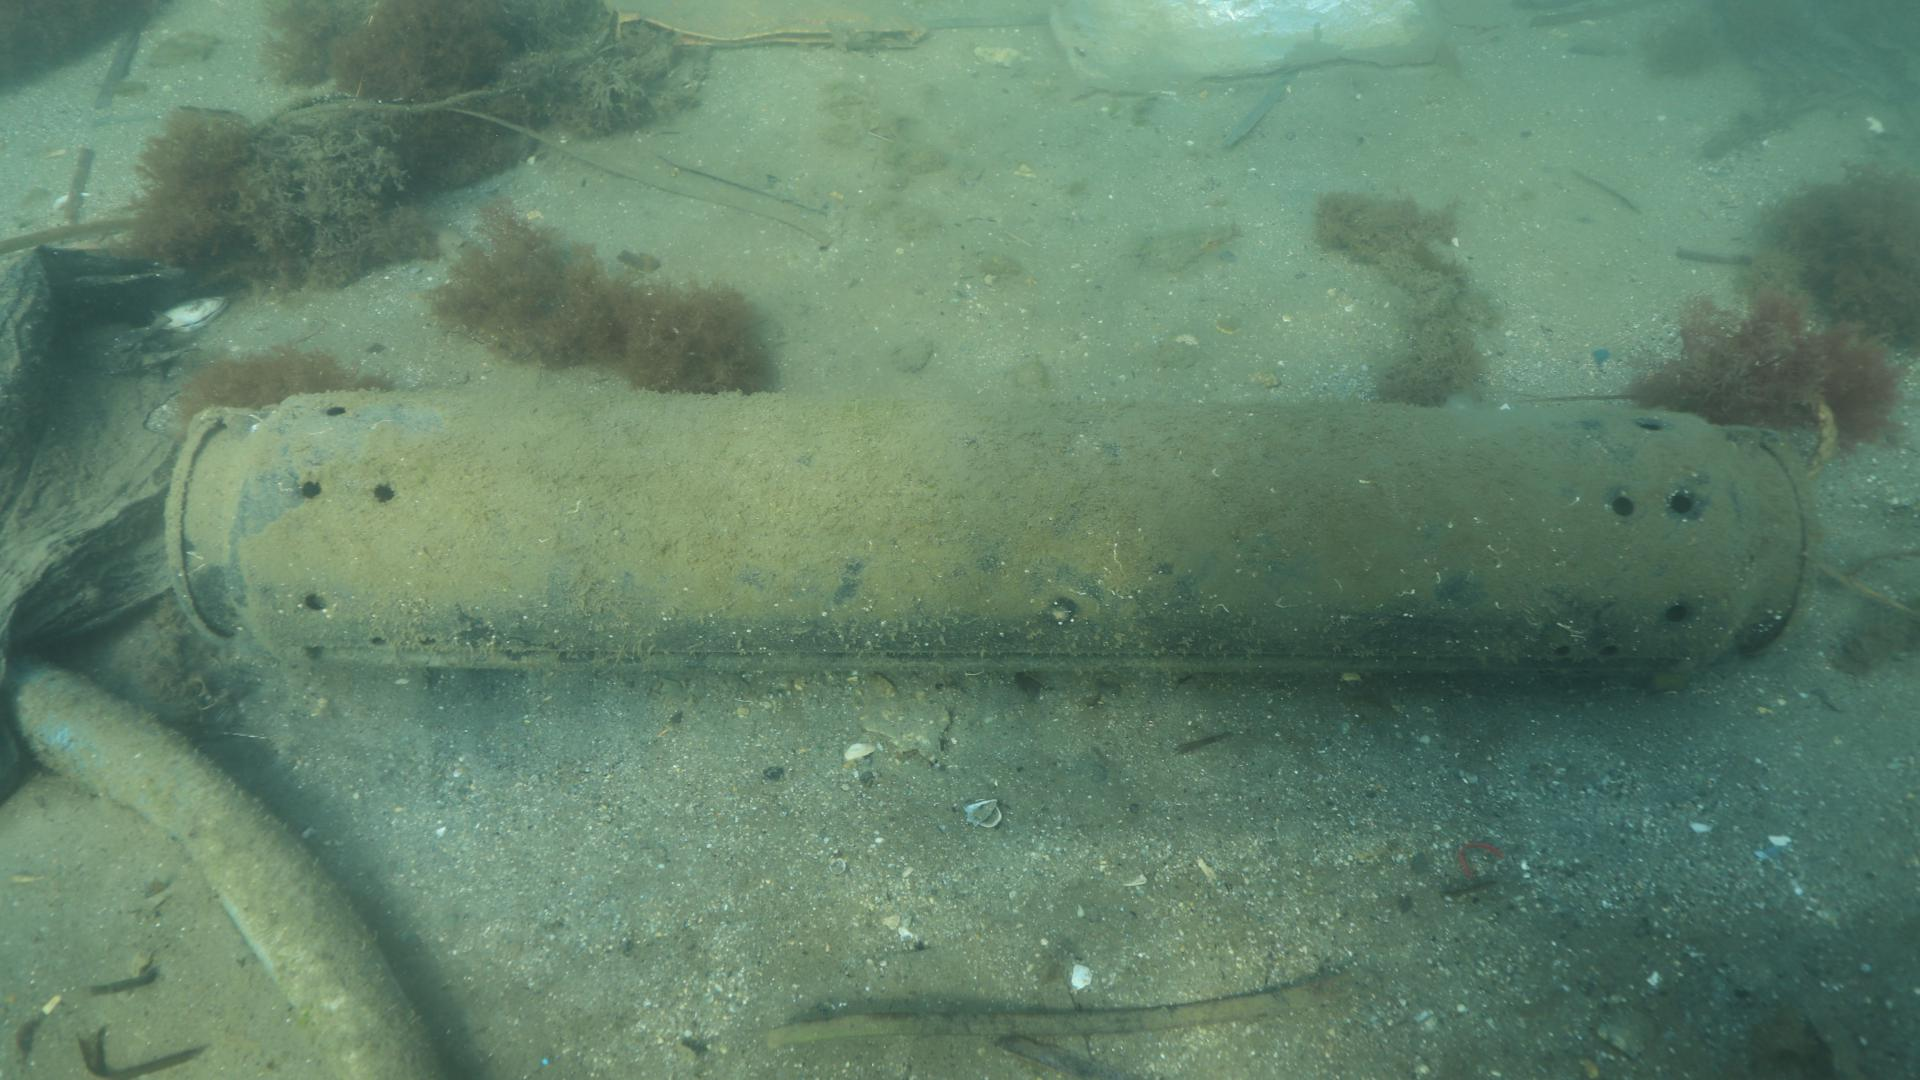eel fish trap: (161, 389, 1824, 676)
rope: (1803, 400, 1841, 481)
